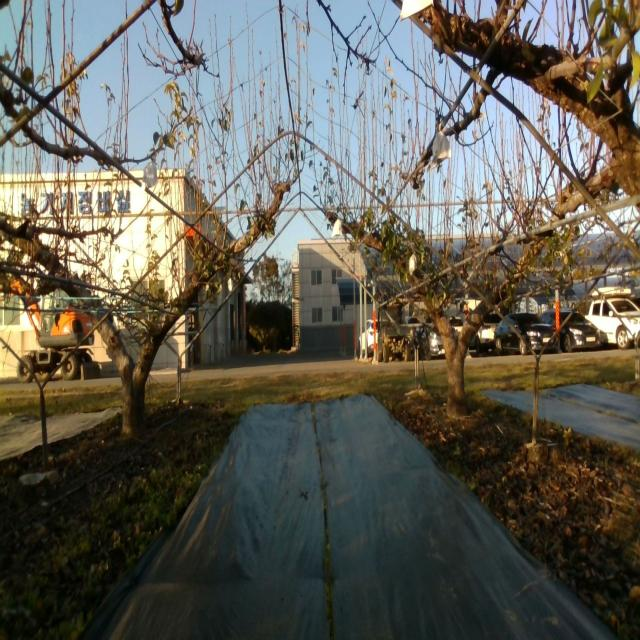pearbags: (428, 122, 452, 172), (141, 160, 158, 190), (331, 218, 343, 238)
